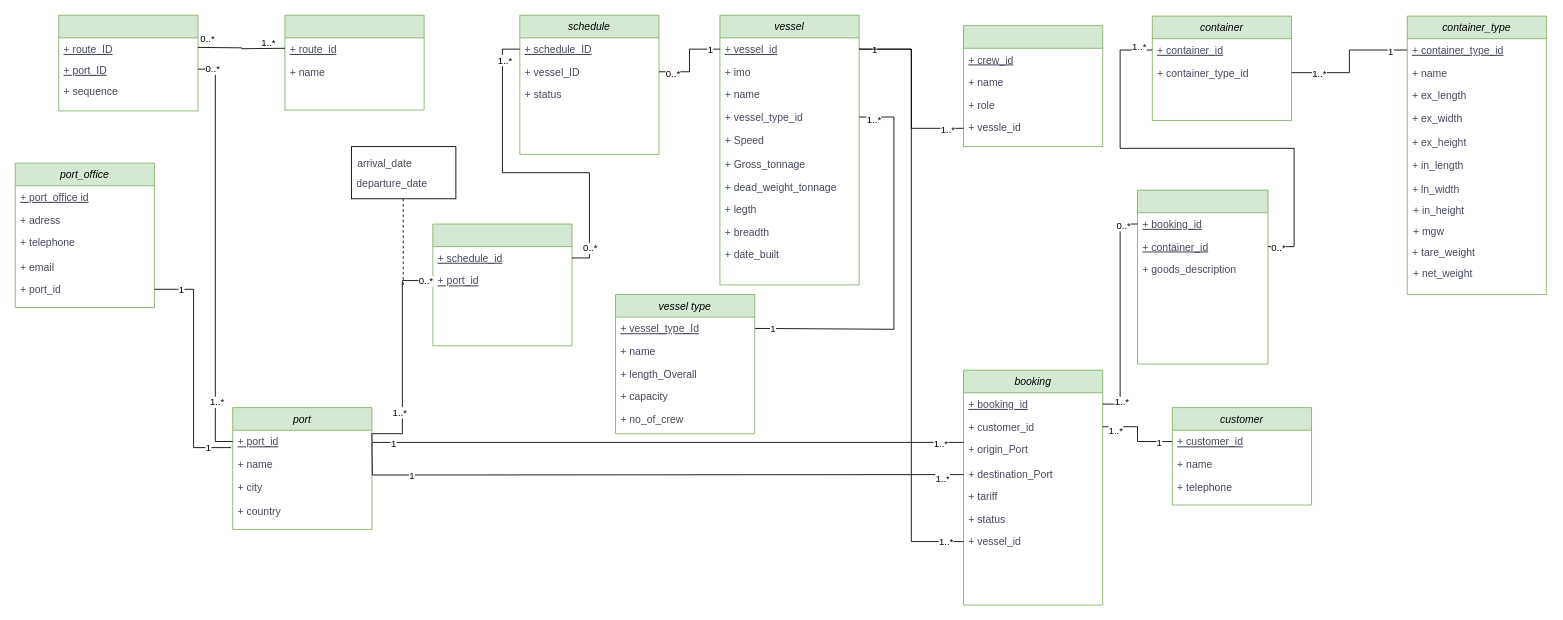
Some shapes in this 1563 by 620 pixel diagram are drawn without their labels. The box of each missing label's shape, as (x1, y1, x2, y2) in pixels:
booking_container: (1137, 189, 1268, 364)
crew_member: (963, 25, 1103, 147)
schedule_port: (432, 223, 572, 346)
service_route: (284, 14, 424, 110)
service_route_port: (58, 14, 198, 111)
